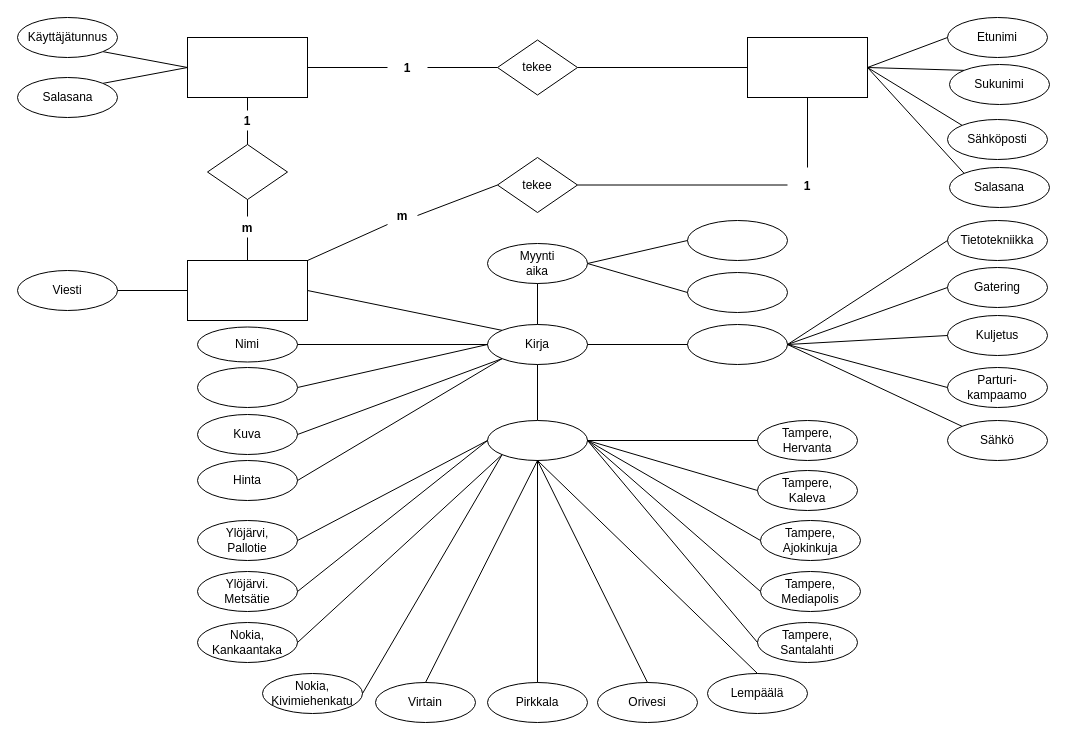
Some shapes in this 1067 by 740 pixel diagram are drawn without their labels. Each missing label, with the centre of its shape:
"Aloitus pvm" belongs at point 737,240.
"Ammattiala" belongs at point 737,344.
"Ilmoitus" belongs at point 247,290.
"katsoo" belongs at point 247,172.
"Kuvaus" belongs at point 247,387.
"Käyttäjät" belongs at point 247,67.
"Lopetus pvm" belongs at point 737,292.
"Rekisteröityminen" belongs at point 807,67.
"Toimipiste" belongs at point 537,440.
